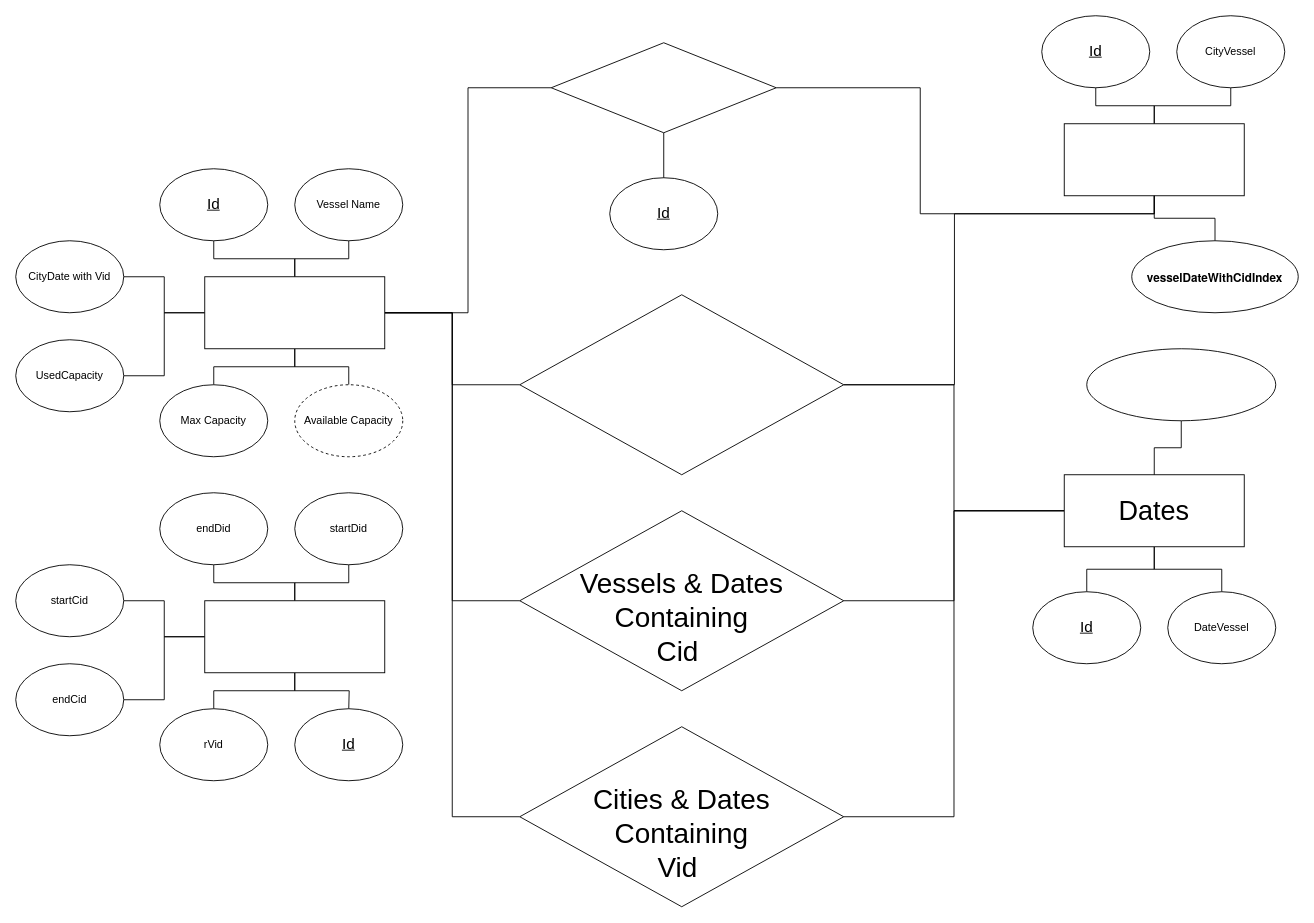
Image size: 1314x923. Some labels were removed from this diagram. The shapes that lost their labels are listed below. From the top down, each one's centre as x and y in pixels, then its label:
point 663,87: Routes
point 1153,159: City
point 294,312: Vessels
point 681,384: Vessels & Cities Containing Did
point 1181,384: cityVesselWithDidIndex
point 294,636: Route
